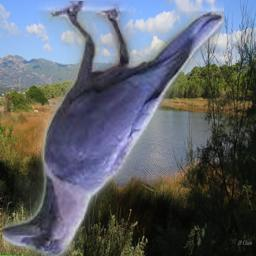Crow: (2, 1, 224, 256)
